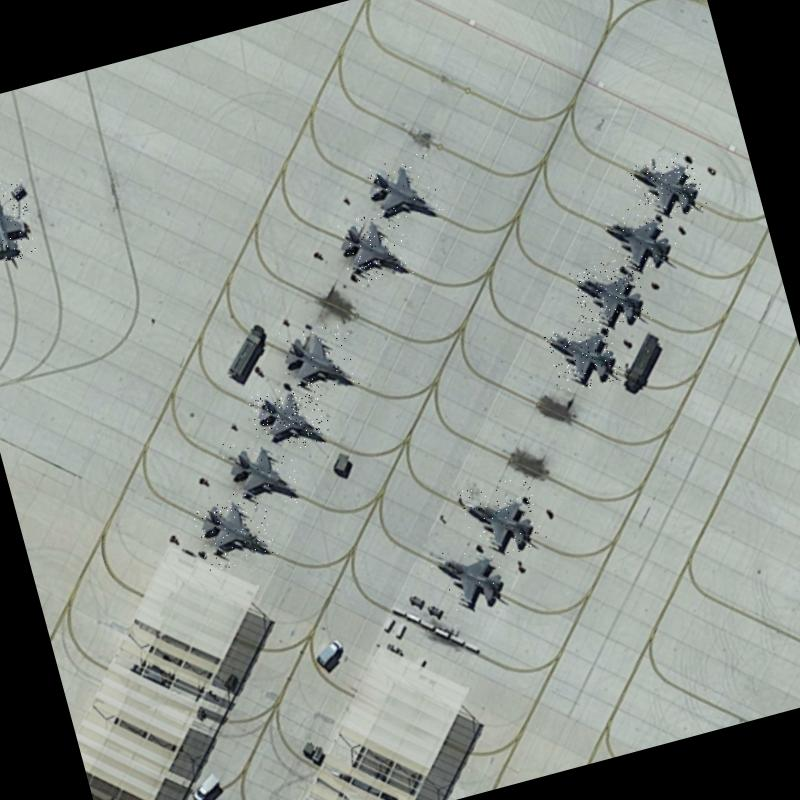A5: (458, 472, 548, 562), (217, 427, 304, 519), (274, 315, 362, 401), (427, 533, 513, 619), (191, 490, 278, 574), (568, 253, 652, 337), (247, 377, 333, 458), (600, 198, 684, 278), (543, 316, 623, 396), (336, 208, 414, 288), (628, 147, 708, 224), (364, 150, 444, 226), (0, 174, 40, 268)
